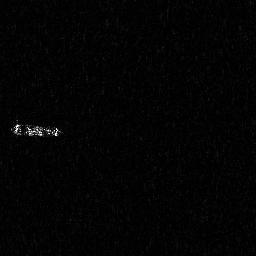ship: (8, 118, 63, 139)
